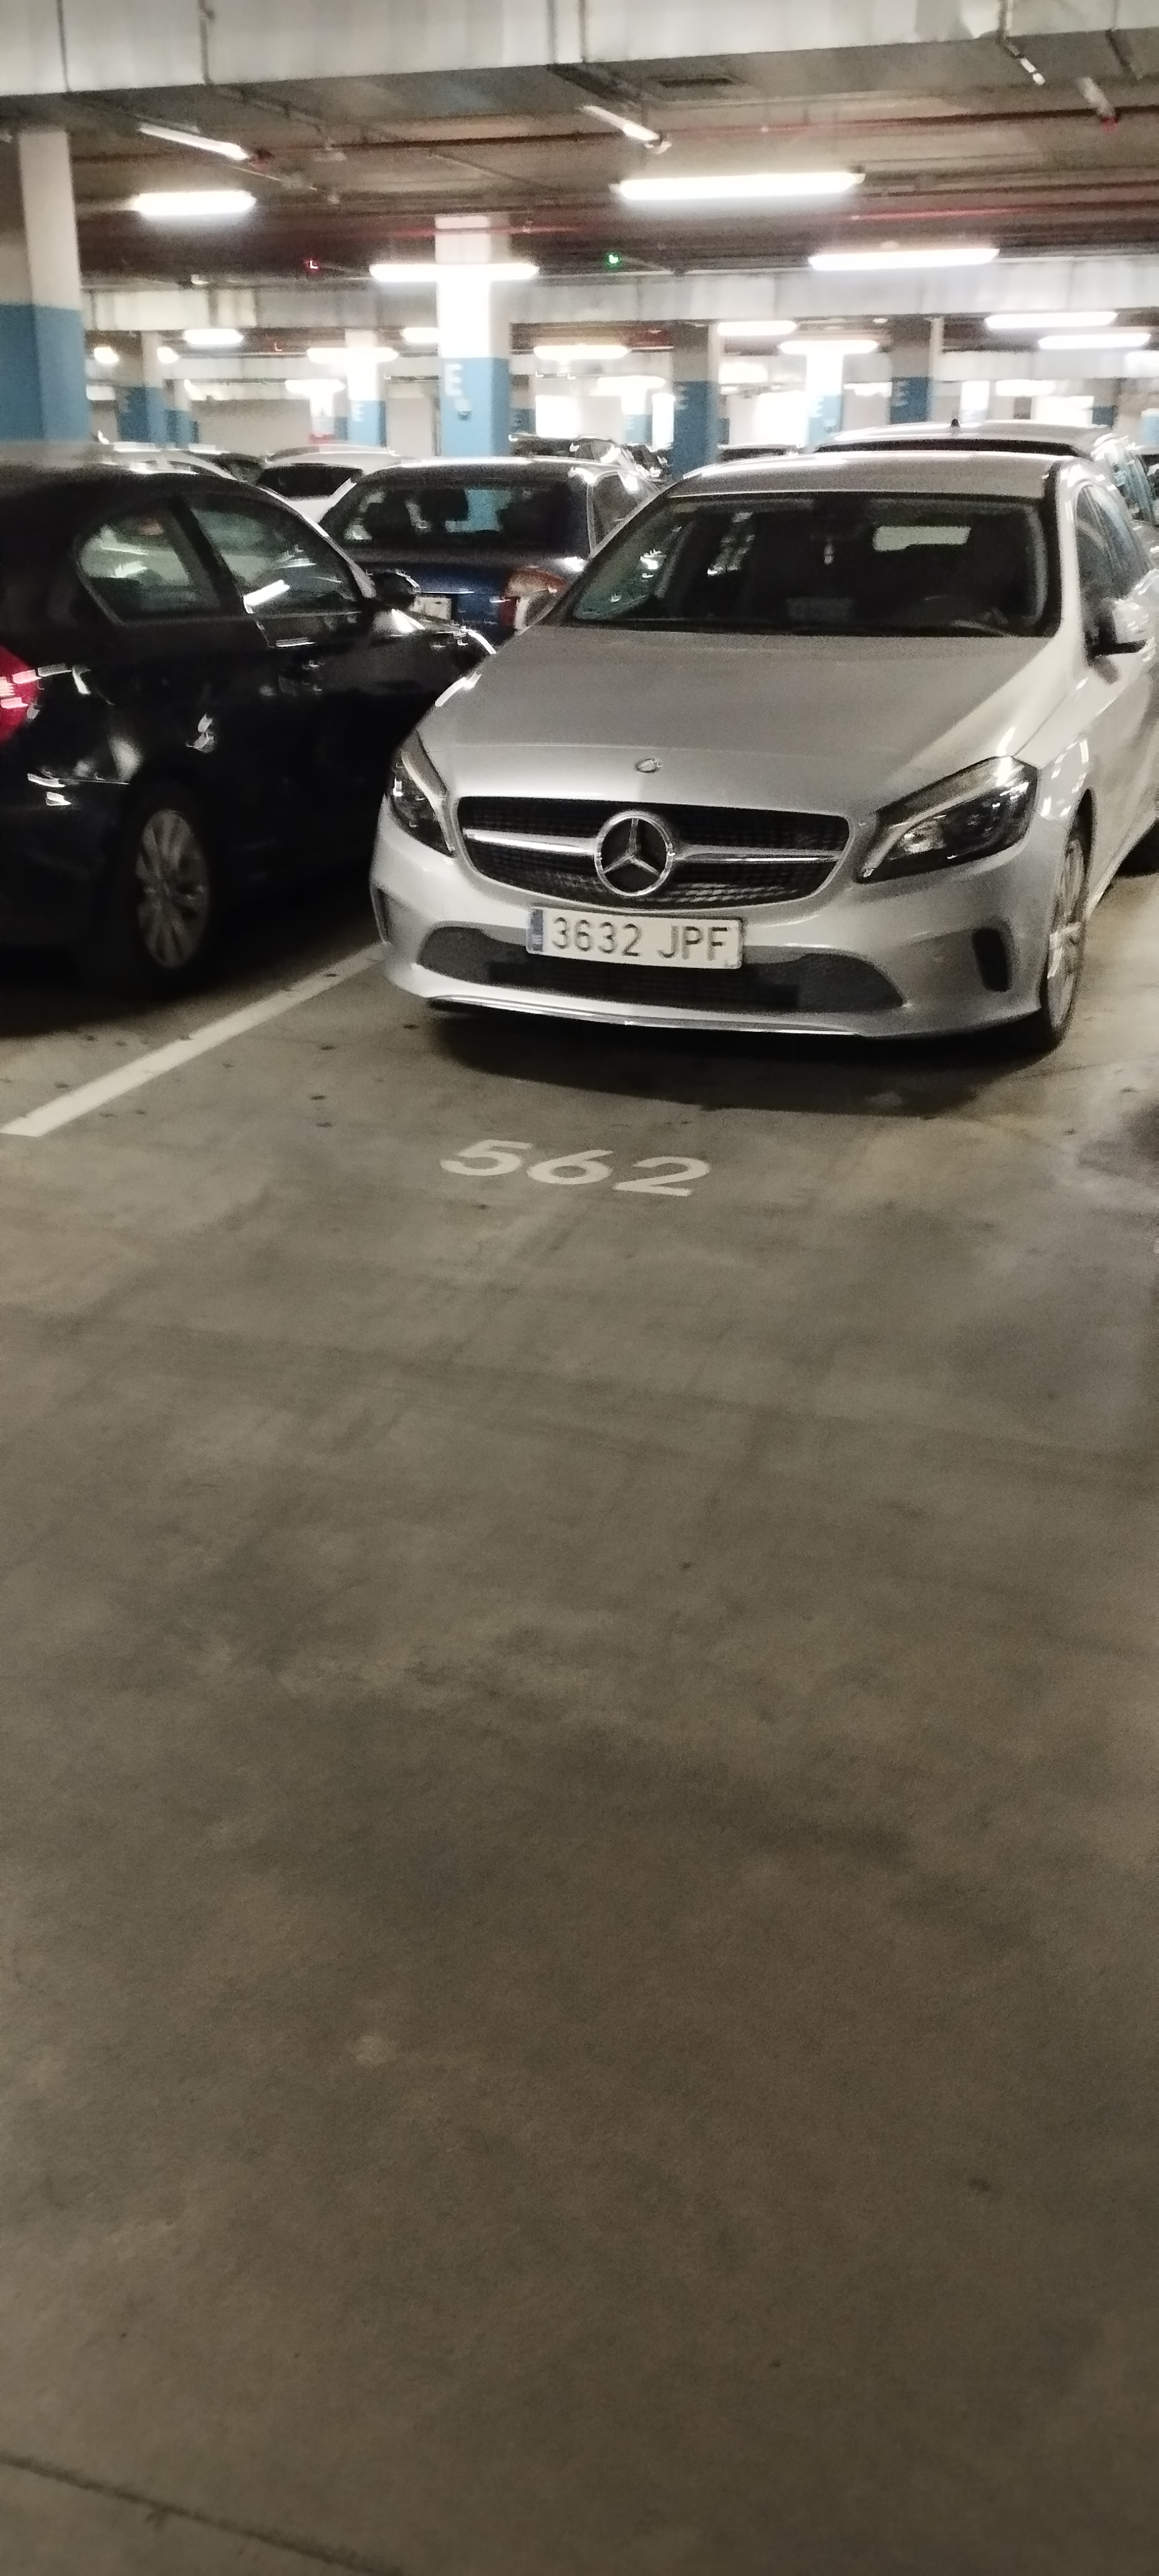Car: (372, 419, 1158, 1052)
Plate: (530, 899, 742, 968)
